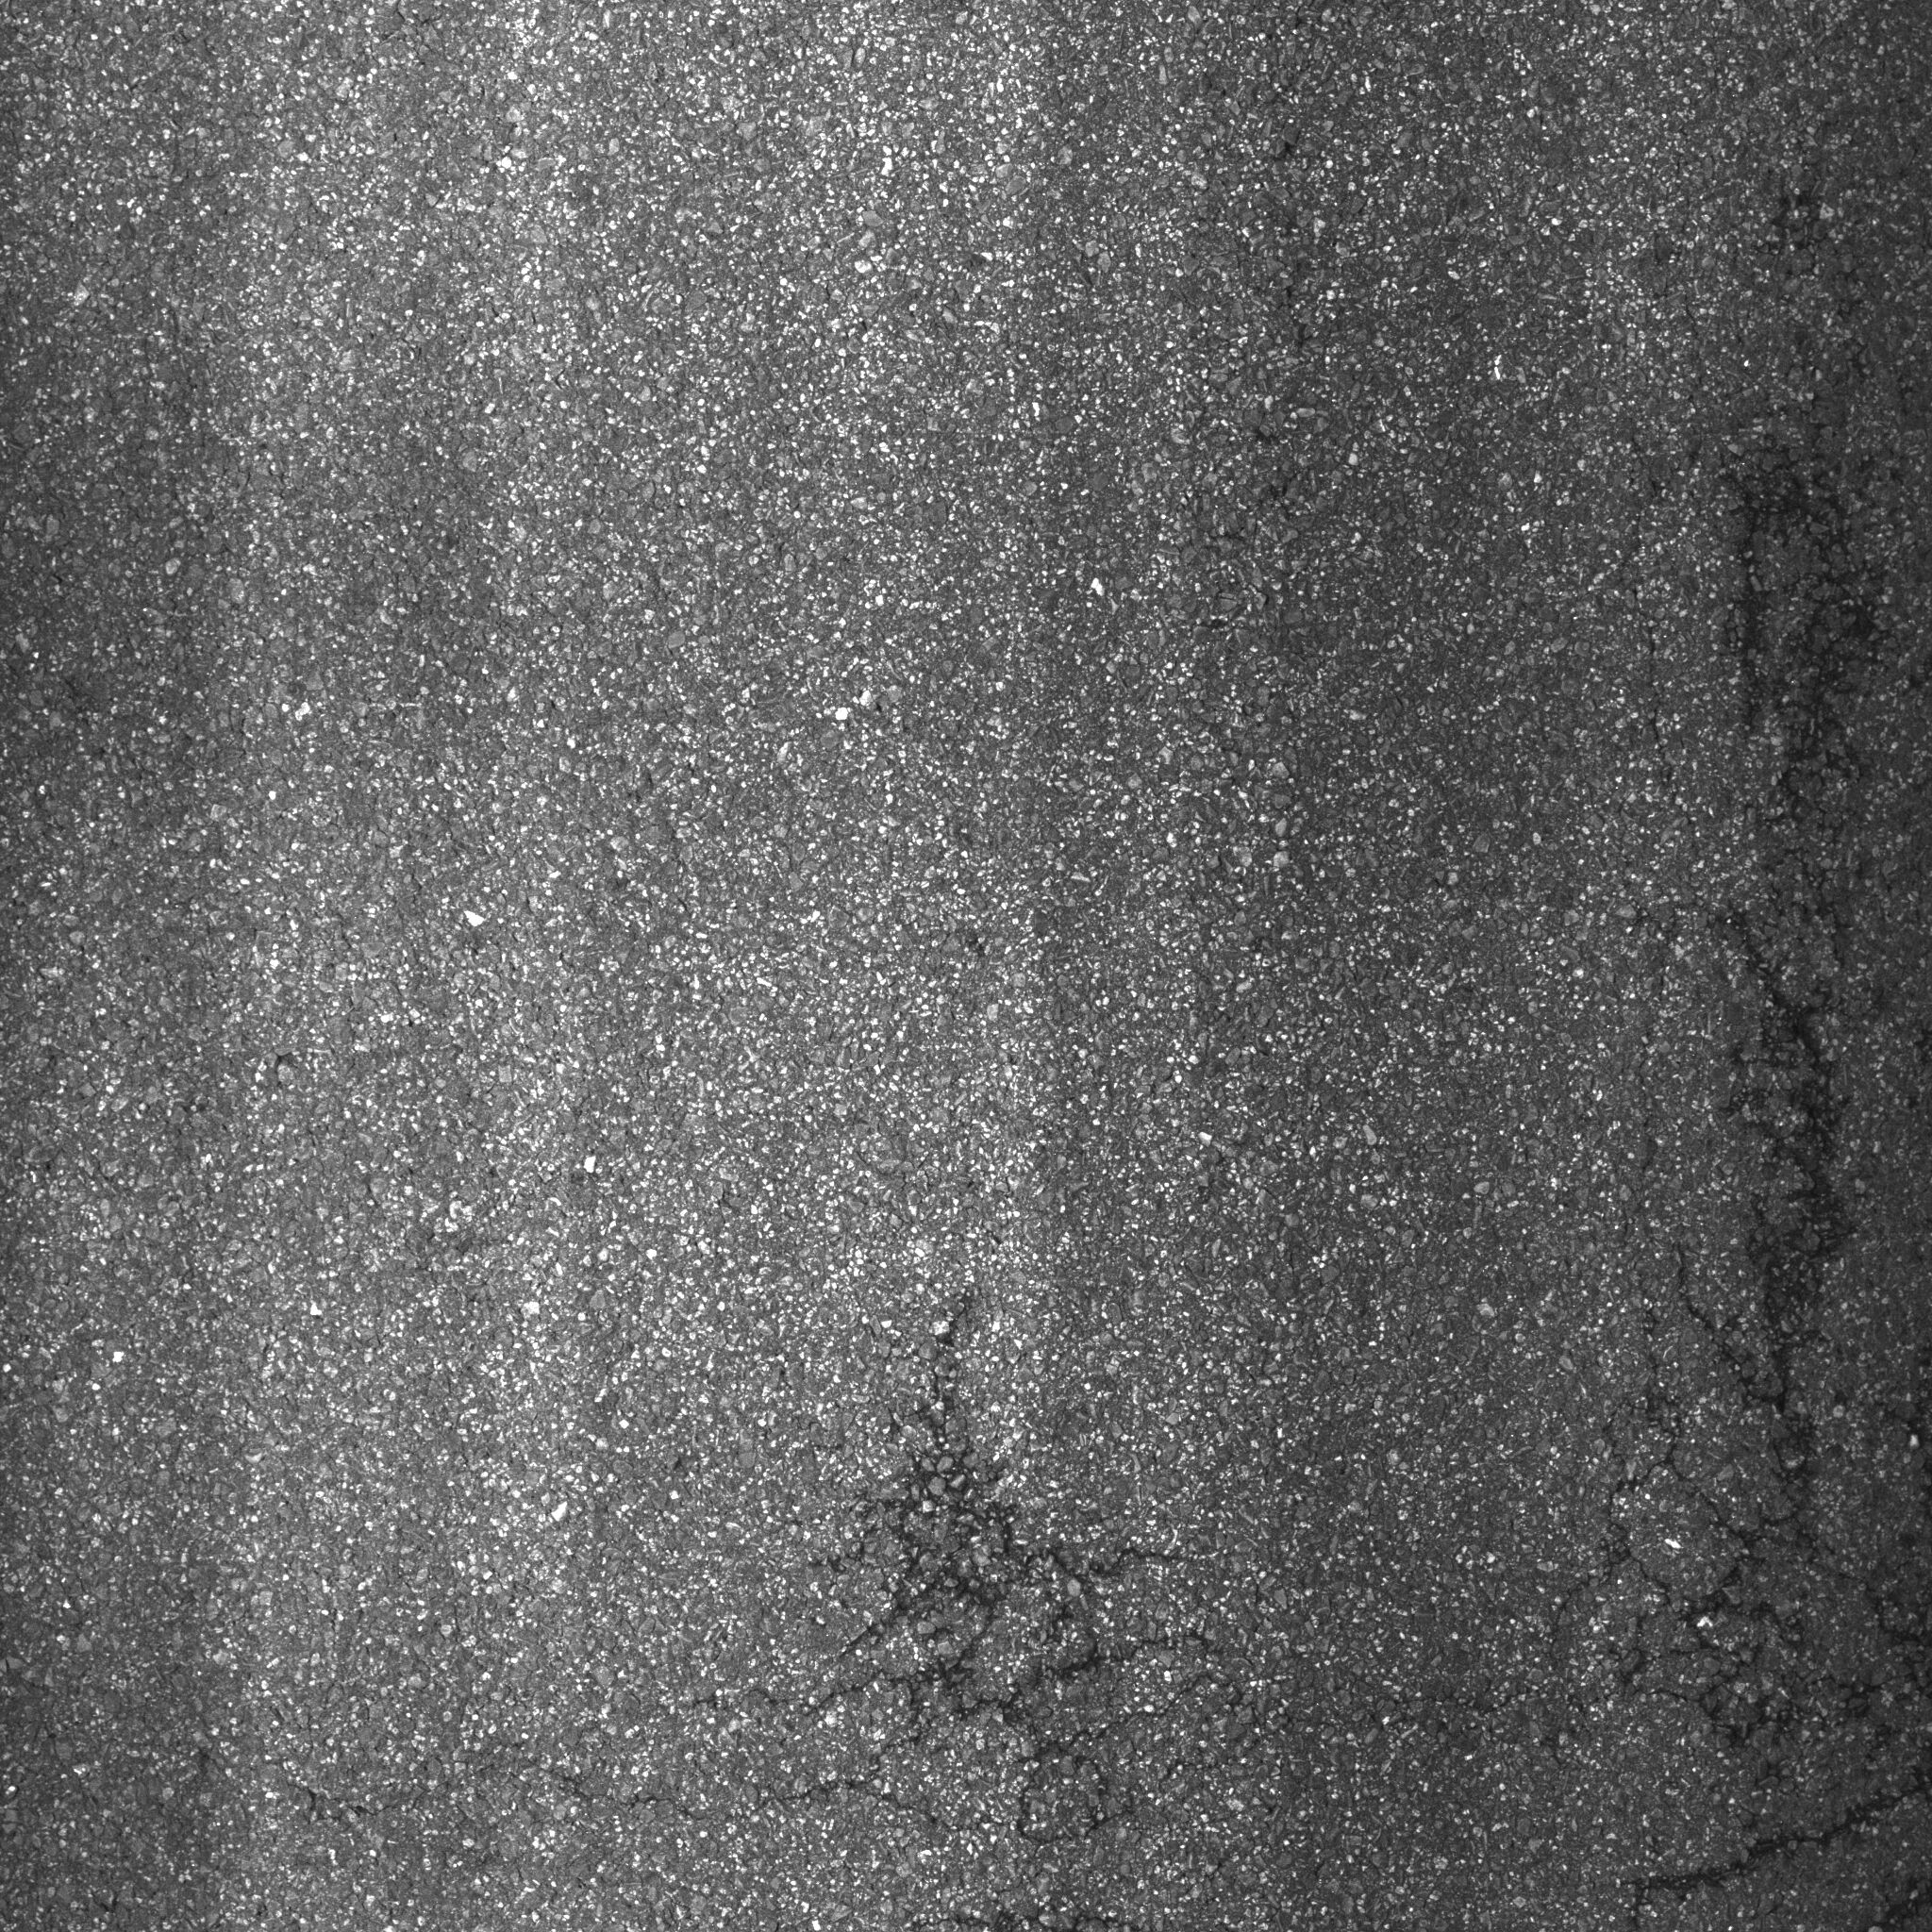alligator: (1530, 386, 1927, 1932), (686, 1247, 1359, 1923)
